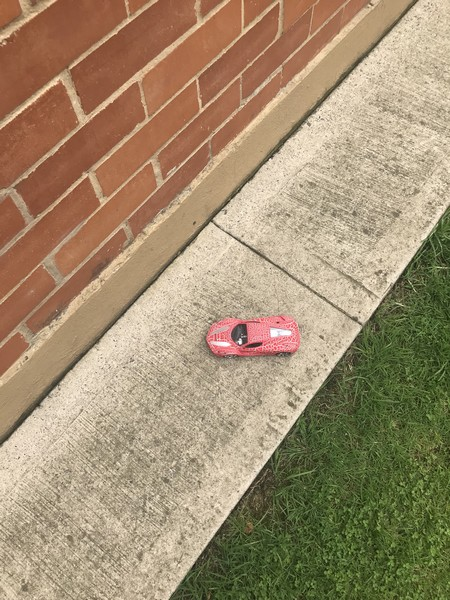RC: (205, 316, 304, 359)
